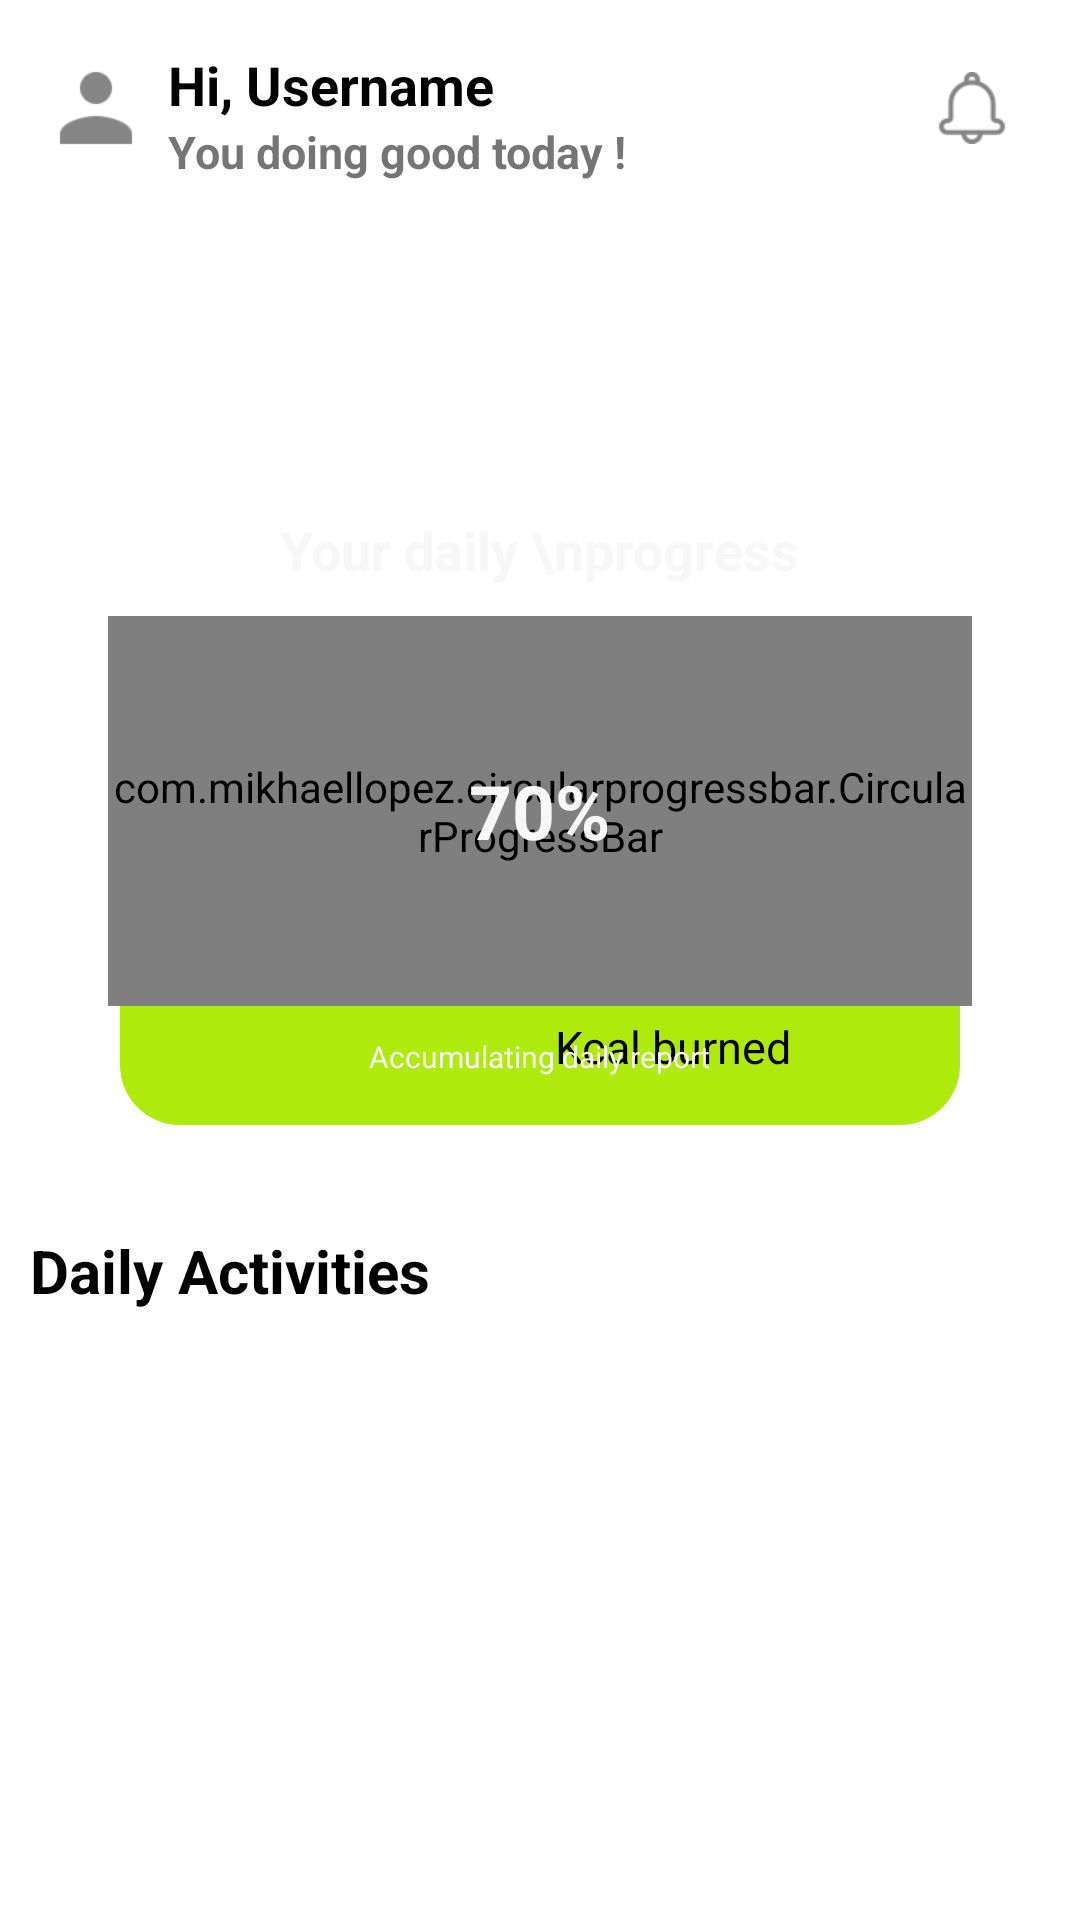

Icons on this 1080px×1920px Android screen, each with its box as bbox=(x1, y1, x2, y2):
notification: bbox=(939, 72, 1005, 144)
